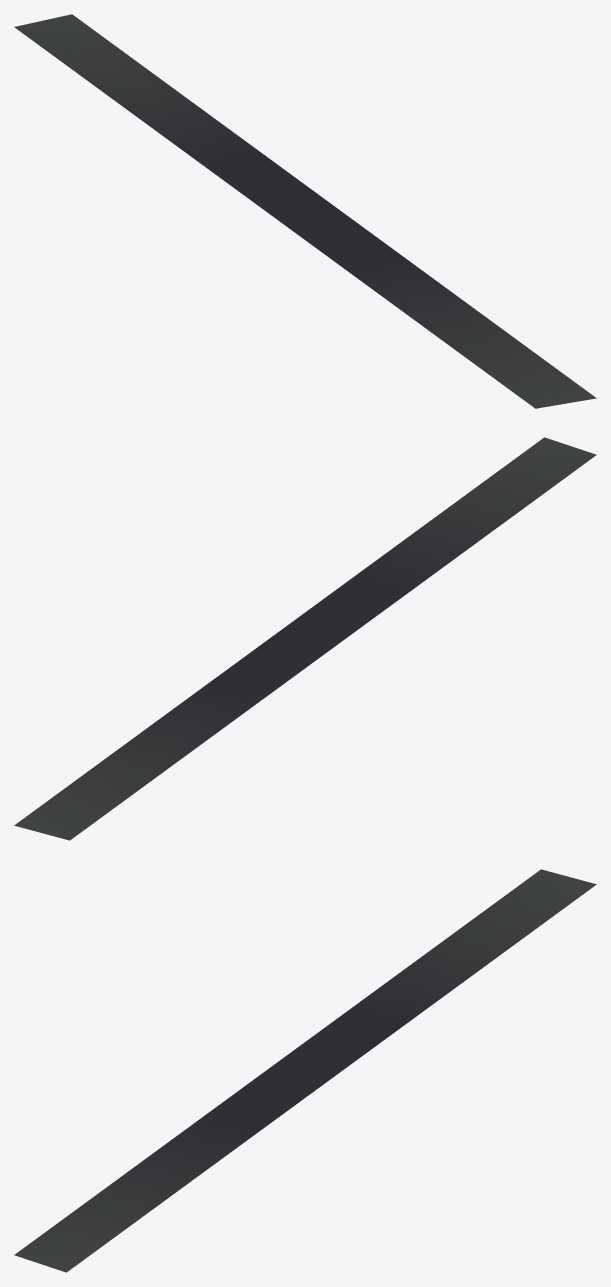
Rendered from Straight_1F.glb.
The picture shows the model from 3 angles, top to bottom: view 1: azimuth 30°, elevation 25°; view 2: azimuth 150°, elevation 25°; view 3: azimuth 330°, elevation 25°; orthographic projection.
Parts seen in each view (by area): view 1: Straight_1F_Skidmarks; view 2: Straight_1F_Skidmarks; view 3: Straight_1F_Skidmarks.
Boxes of the visible parts, bbox=[...] form: Straight_1F_Skidmarks: bbox=[14, 14, 596, 408]; Straight_1F_Skidmarks: bbox=[14, 437, 596, 840]; Straight_1F_Skidmarks: bbox=[14, 869, 596, 1272].
Size of what is drawn, in the model's own units: 0.5332 by 1.9e-15 by 8.57.
Materials: 1 (1 with a texture image).
